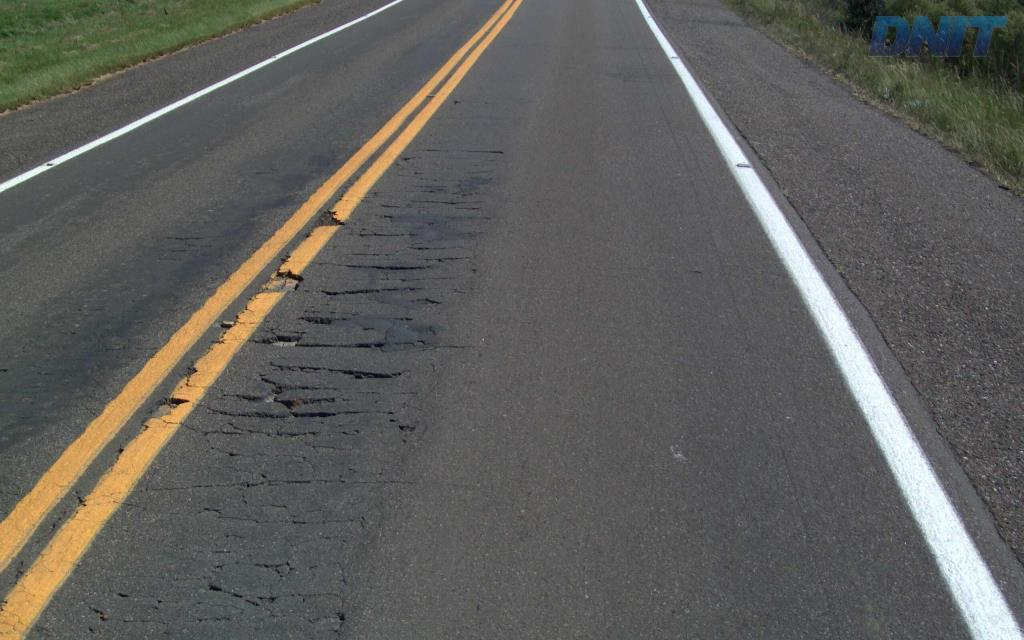crack: (199, 372, 371, 453), (249, 310, 470, 353), (268, 358, 411, 380), (295, 305, 376, 331), (215, 470, 311, 491), (315, 286, 425, 304), (334, 262, 433, 280)
